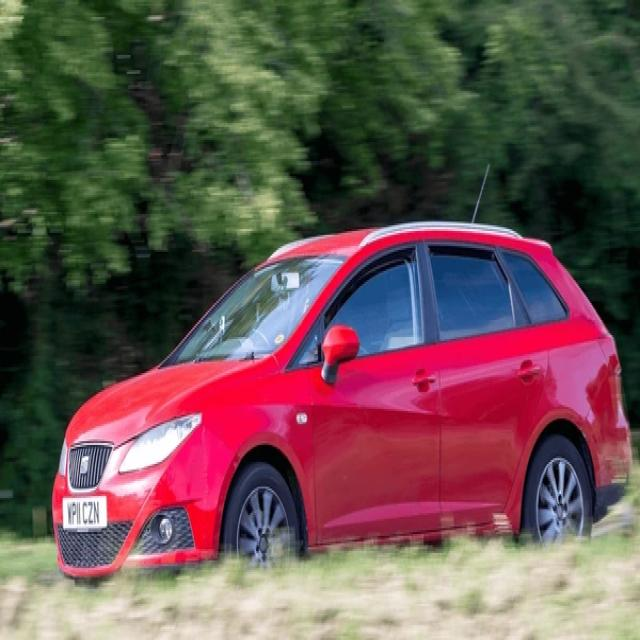seat: (76, 451, 92, 477)
